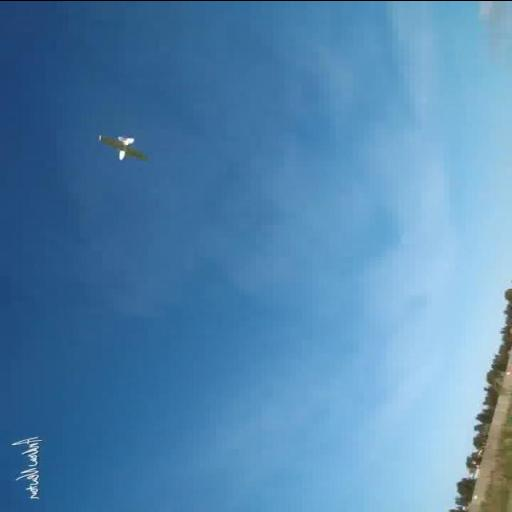uav: (80, 106, 186, 199)
